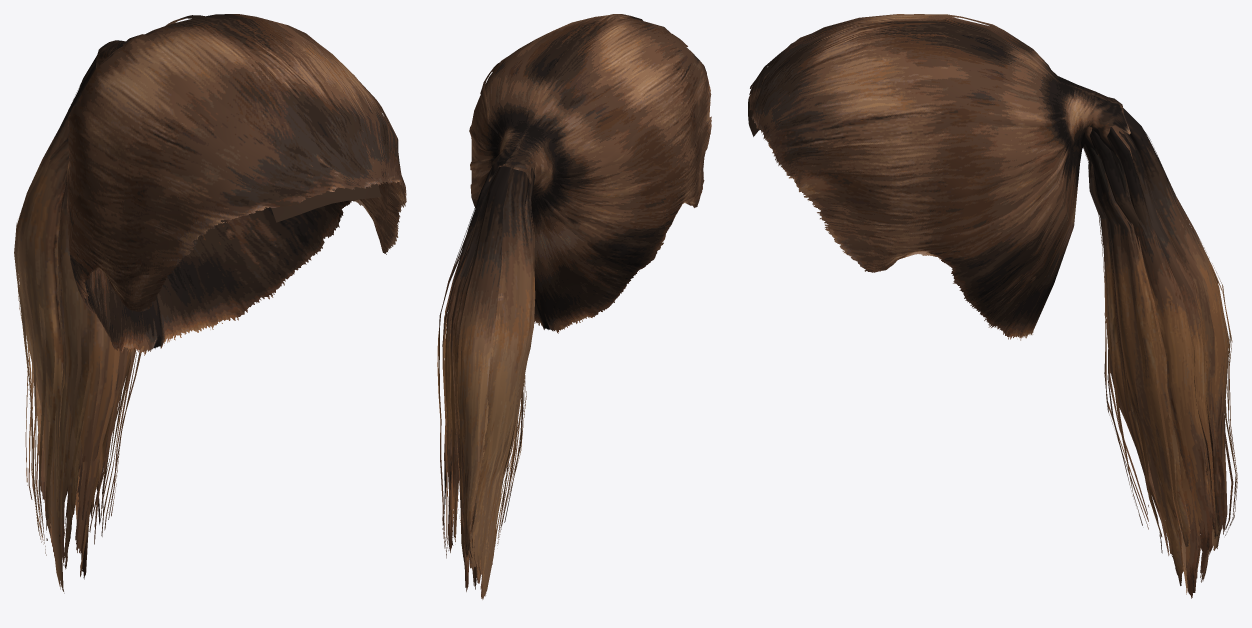
File: tail.glb
3 views of the same model, side by side, from view 1: azimuth 30°, elevation 25°; view 2: azimuth 150°, elevation 25°; view 3: azimuth 270°, elevation 25° (orthographic). The views are drawn at different scales.
Visible parts, largest first — view 1: Loose, Tucked; view 2: Loose, Tucked; view 3: Loose, Tucked.
Boxes of the visible parts, x1=… form: Loose: x1=14, y1=14, x2=406, y2=593; Tucked: x1=17, y1=138, x2=390, y2=569; Loose: x1=437, y1=14, x2=711, y2=599; Tucked: x1=438, y1=133, x2=703, y2=573; Loose: x1=748, y1=14, x2=1237, y2=598; Tucked: x1=862, y1=126, x2=1234, y2=571.
Size of the model in its own units: 0.1536 by 0.3766 by 0.2818.
2 materials, 2 textured.
